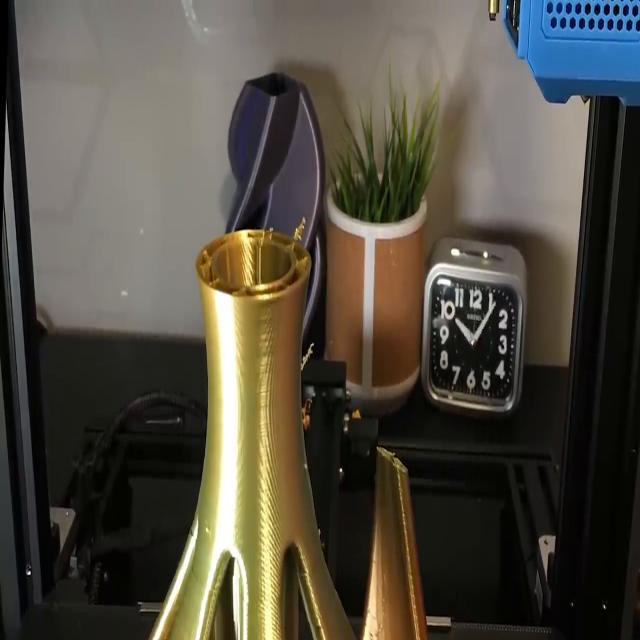spaghetti: (288, 213, 308, 239)
